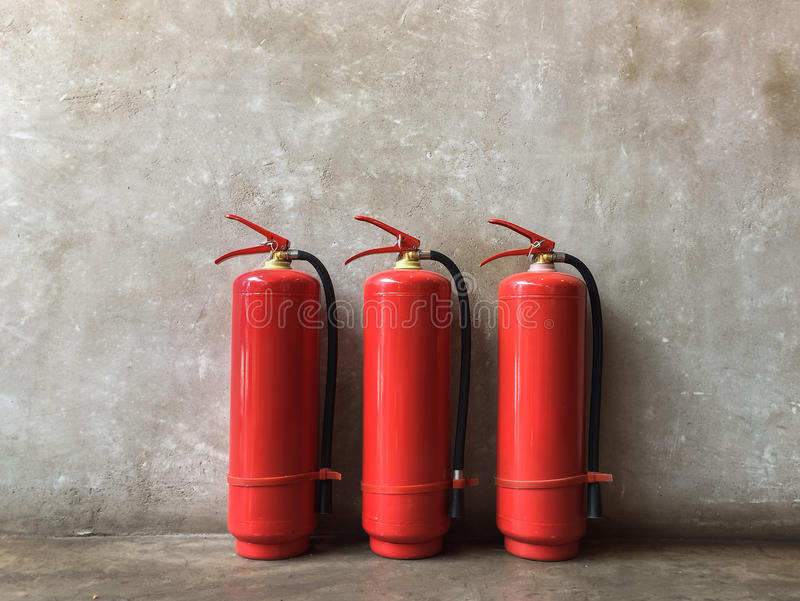fire_extinguisher: (343, 214, 478, 560), (478, 217, 613, 562), (213, 212, 341, 561)
